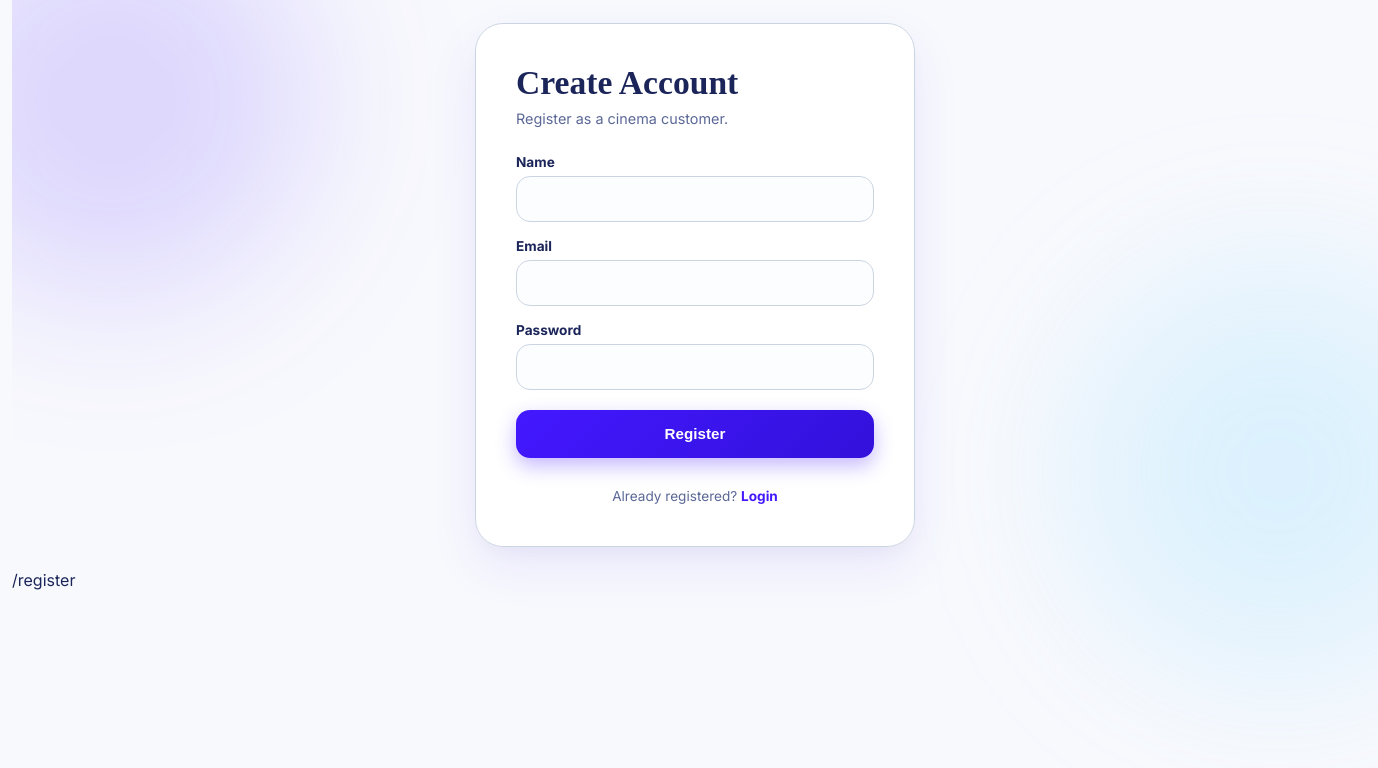
Scenario: Register Page › should display an error when registration fails
Type "Existing Customer" into the field labelled "Name" at coordinates (695, 199), box [516,176,874,222]
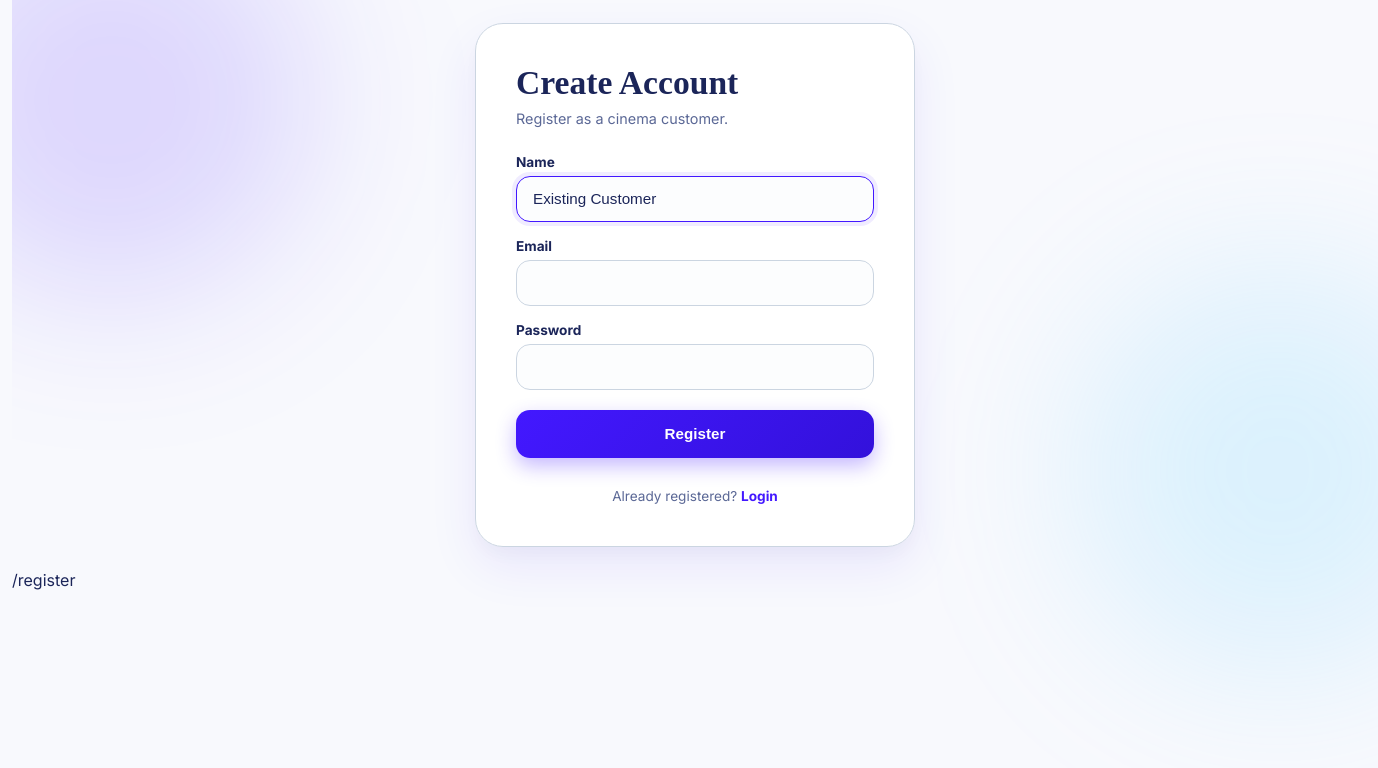
Type "existing@example.com" into the field labelled "Email" at coordinates (695, 283), box [516,260,874,306]
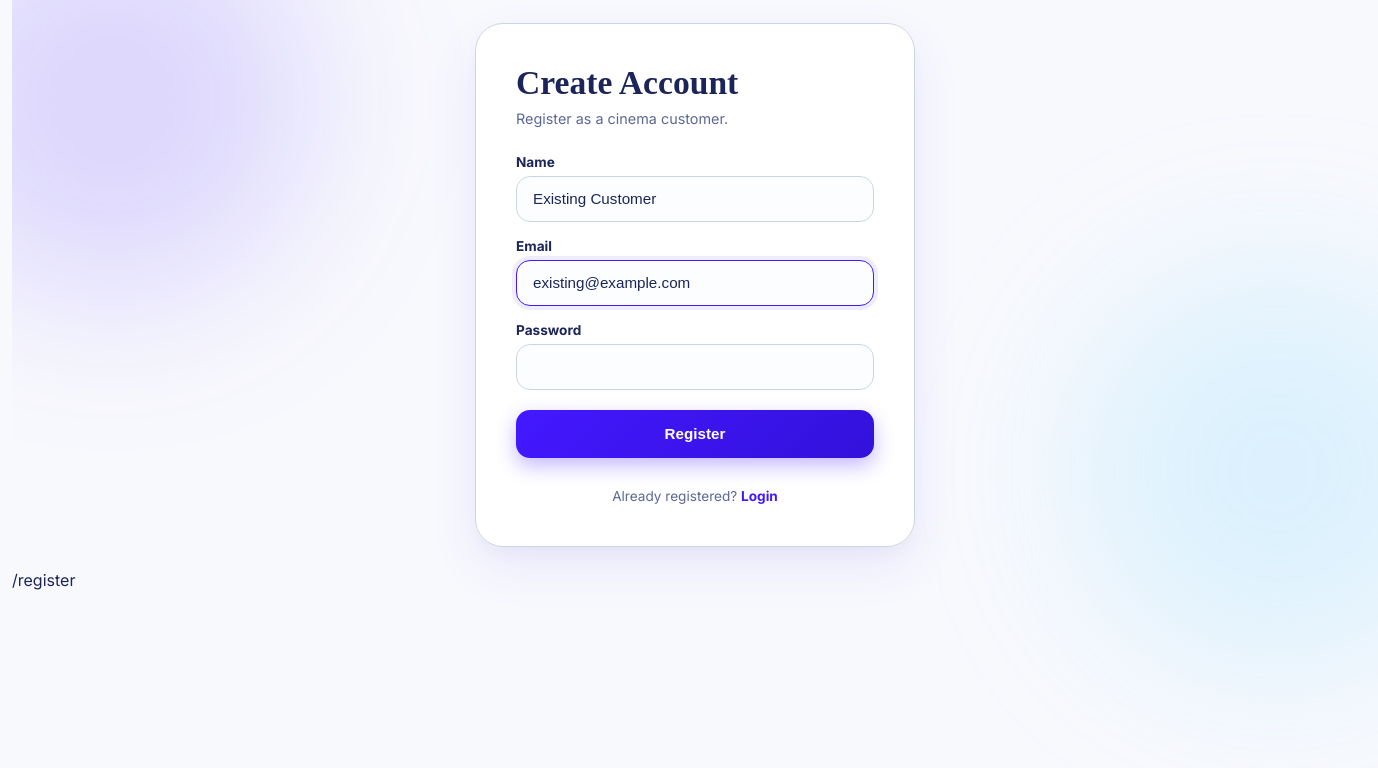
Type "Password123!" into the password field labelled "Password" at coordinates (695, 367), box [516,344,874,390]
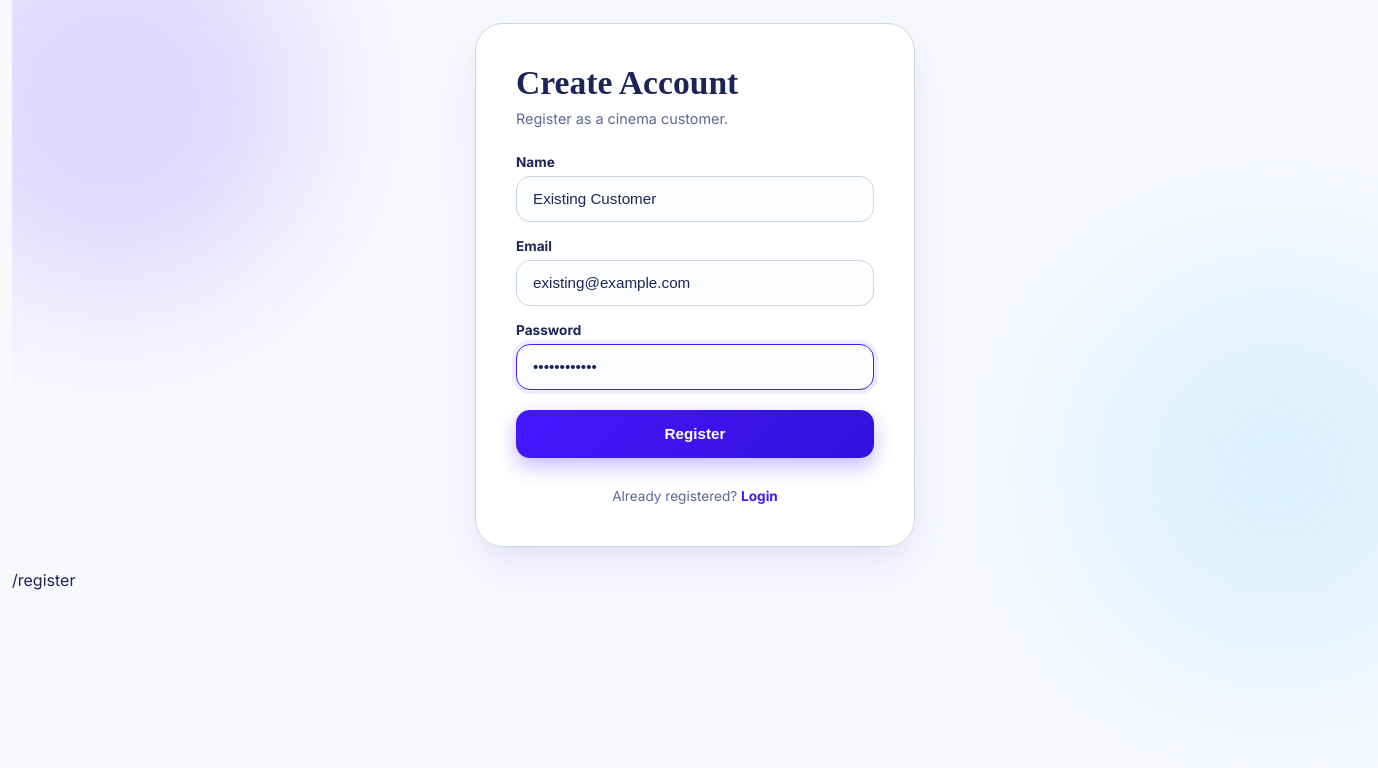
Click the button "Register" at coordinates (695, 434), box [516,410,874,458]
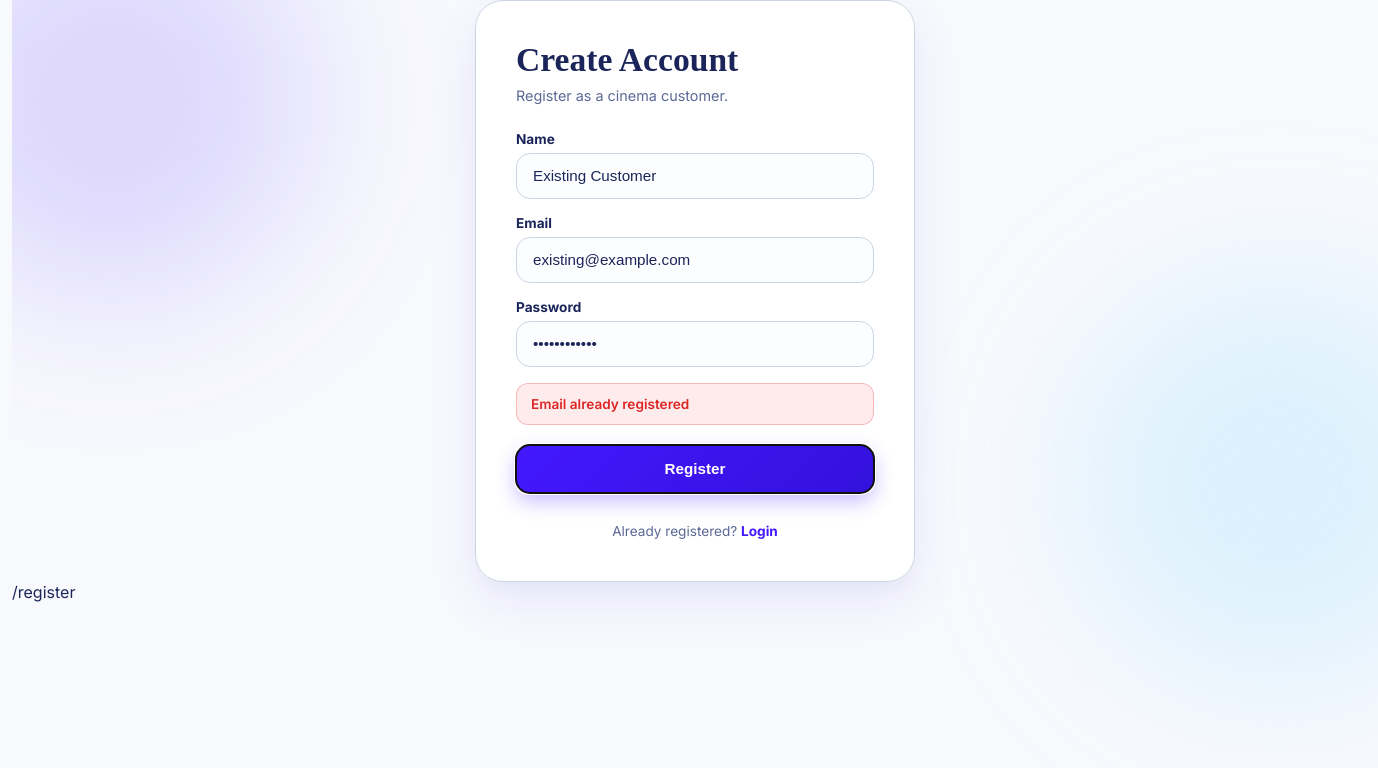
Check: the text "Email already registered" is shown, box [516,383,874,425]
